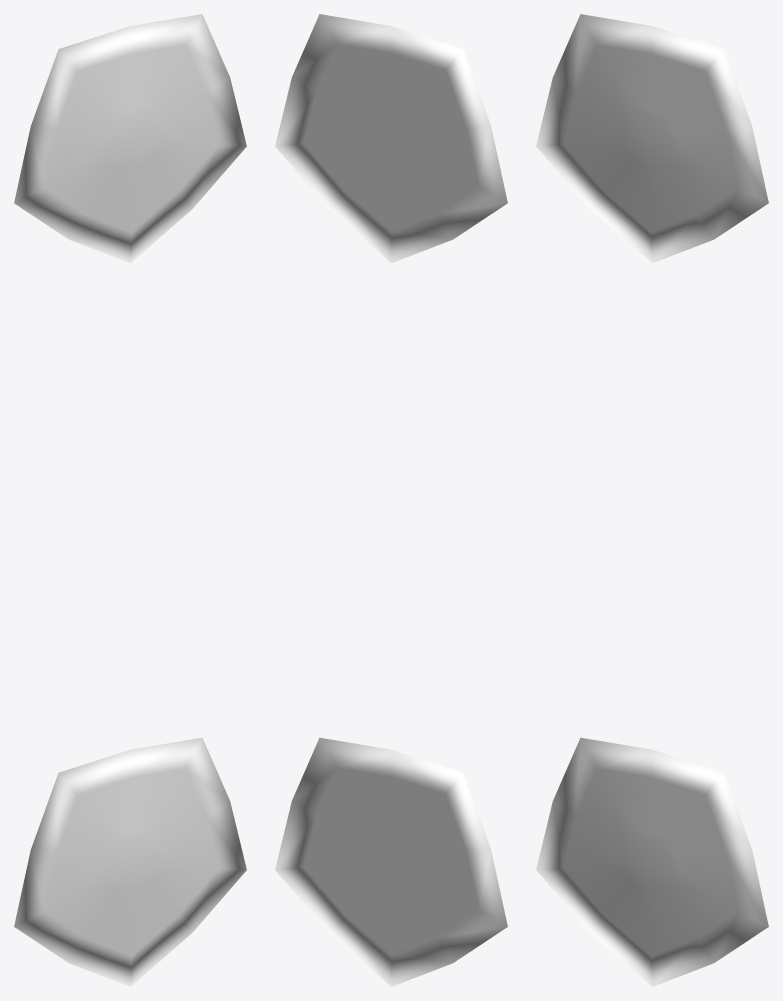
The model's file is Prop_Shield_FiveSide_UVScroll.fbx.
3 views of the same model, side by side, from view 1: azimuth 30°, elevation 25°; view 2: azimuth 150°, elevation 25°; view 3: azimuth 330°, elevation 25° (orthographic).
Parts seen in each view (by area): view 1: ShieldFiveSide_Mesh1, ShieldFiveSide_Outer_Mesh; view 2: ShieldFiveSide_Mesh1, ShieldFiveSide_Outer_Mesh; view 3: ShieldFiveSide_Mesh1, ShieldFiveSide_Outer_Mesh.
Part boxes in pixels (x1=…): ShieldFiveSide_Mesh1: x1=14, y1=737, x2=246, y2=986; ShieldFiveSide_Outer_Mesh: x1=14, y1=14, x2=246, y2=263; ShieldFiveSide_Mesh1: x1=275, y1=737, x2=507, y2=986; ShieldFiveSide_Outer_Mesh: x1=275, y1=14, x2=507, y2=263; ShieldFiveSide_Mesh1: x1=536, y1=737, x2=768, y2=986; ShieldFiveSide_Outer_Mesh: x1=536, y1=14, x2=768, y2=263.
Bounding box in the file's own units: 14.56 × 57.41 × 0.5257.
